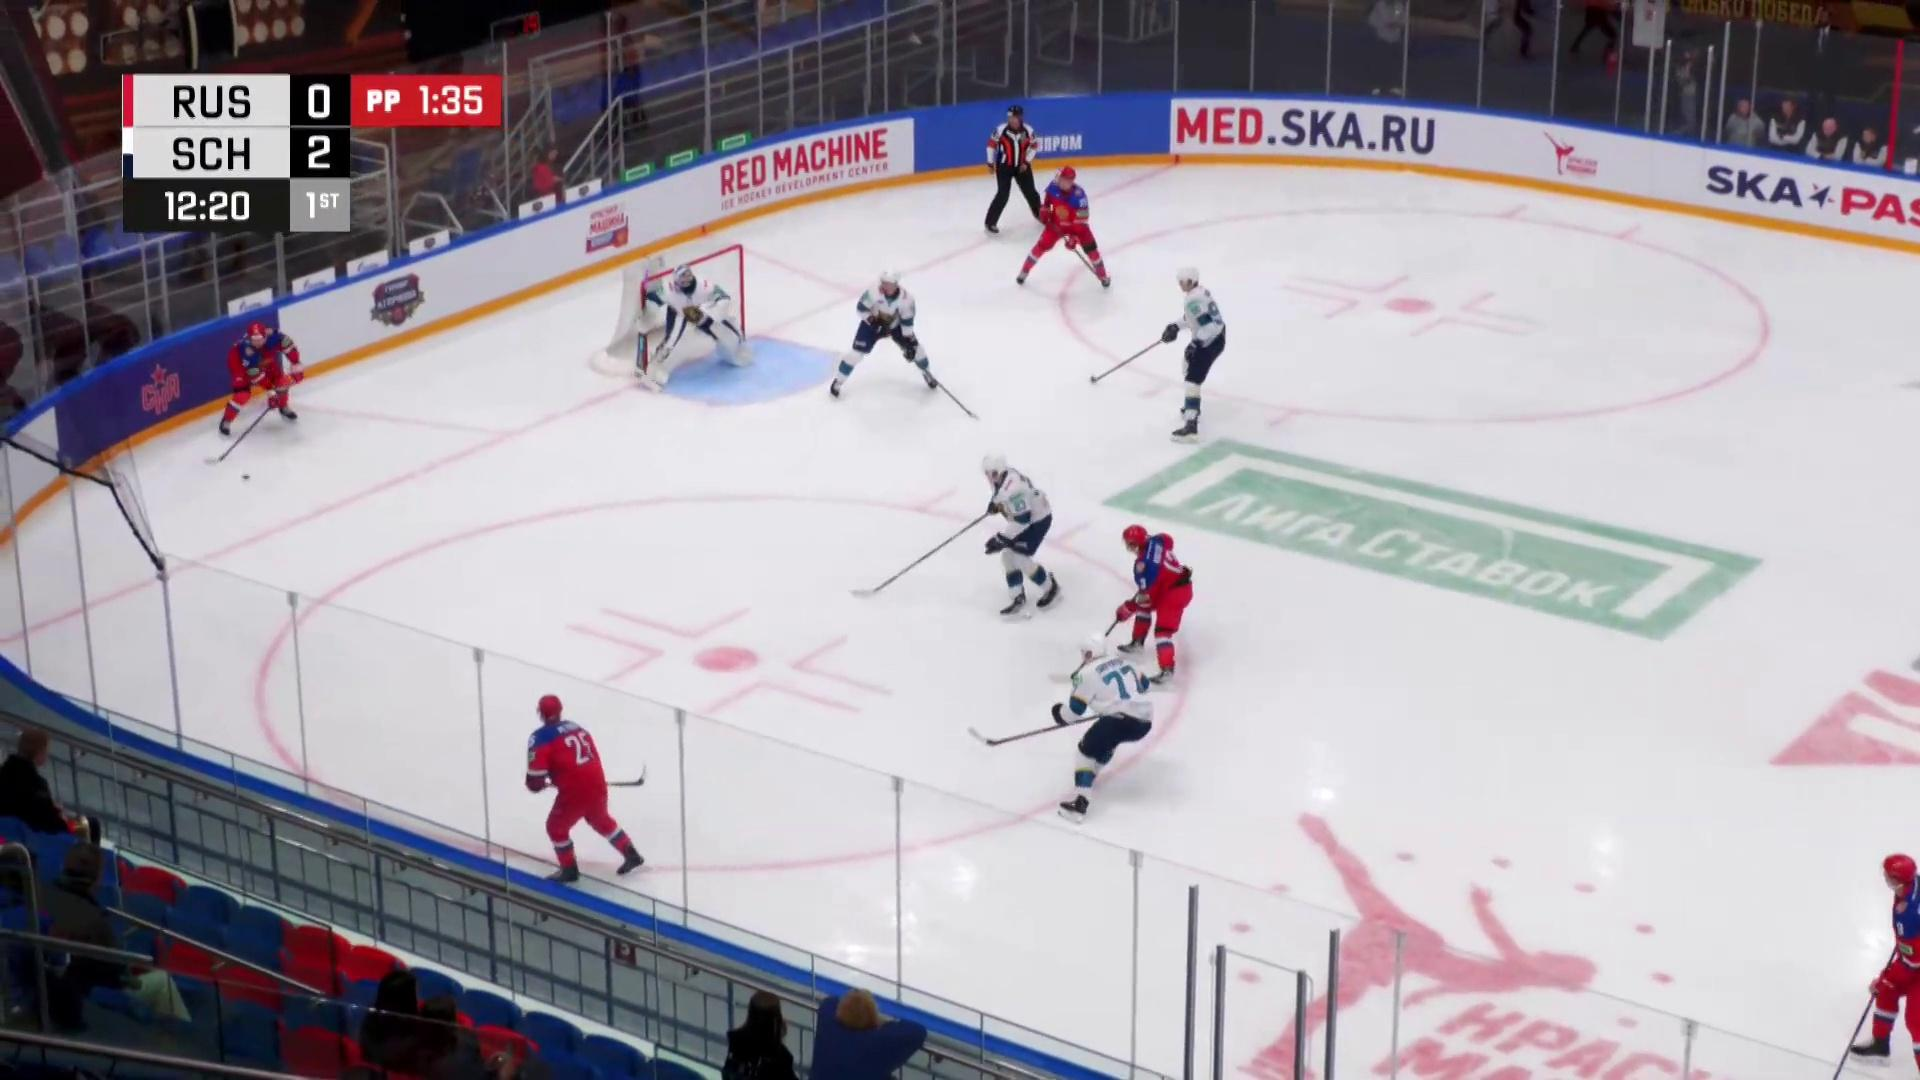ball: (241, 475, 251, 480)
